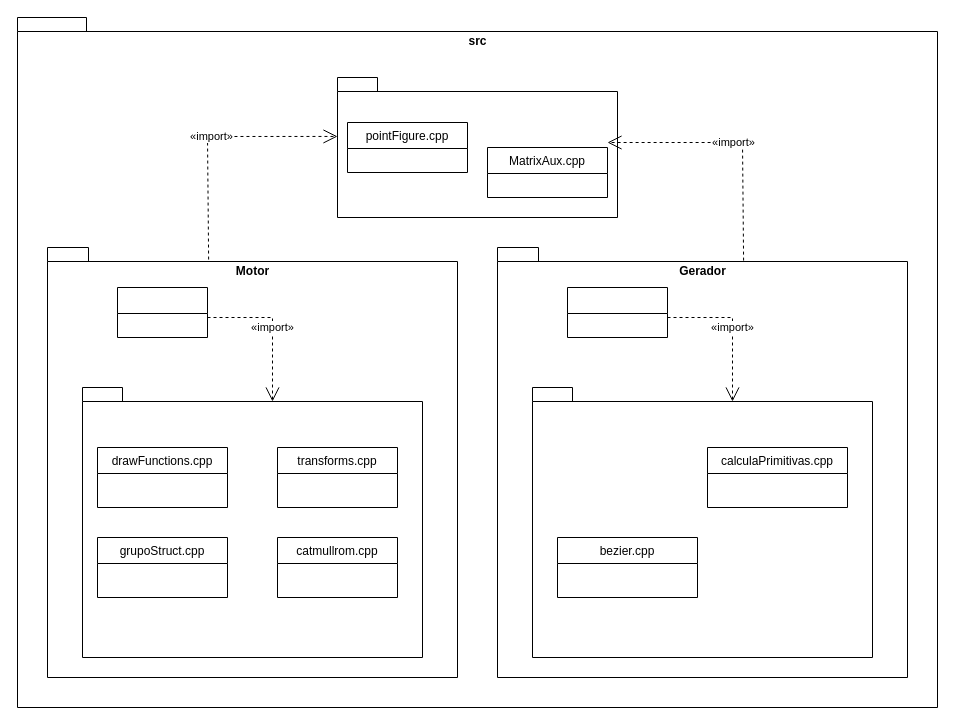
The diagram is 955 pixels wide and 725 high, and some of its shapes have lost their labels. Each missing label, with the box of its shape:
gerador.cpp: (566, 286, 668, 338)
GeradorUtils: (532, 386, 872, 658)
motor.cpp: (116, 286, 208, 338)
MotorUtils: (82, 386, 422, 658)
Utils: (336, 76, 618, 218)
